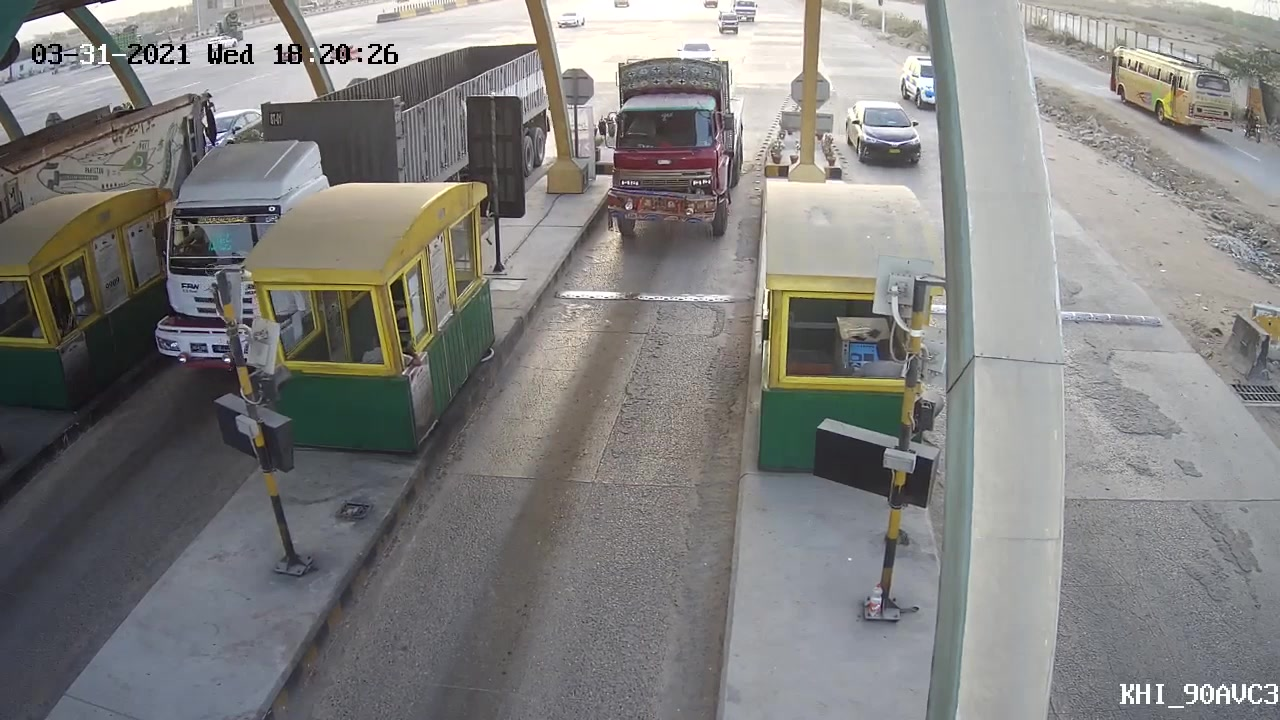F6: (595, 49, 745, 243)
